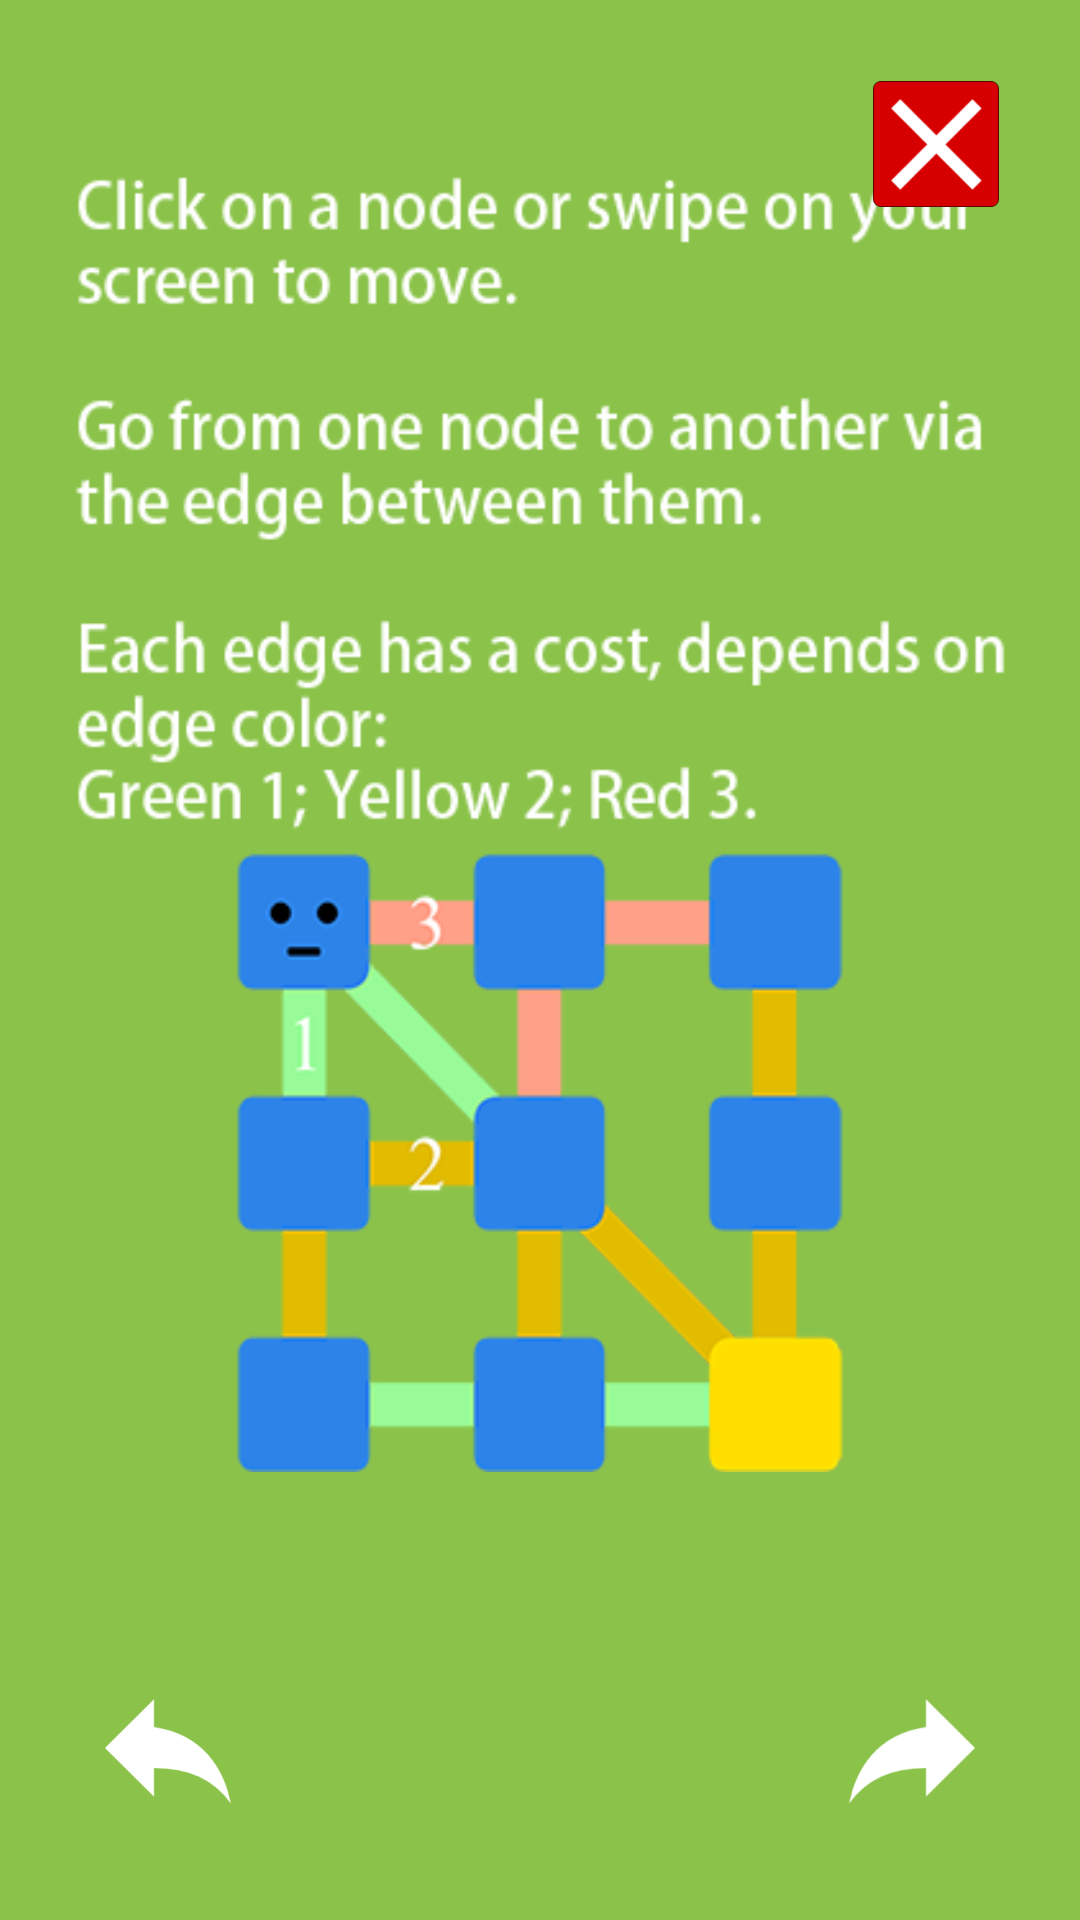

Point at icon controls on the screen. Image size 1080px x 1920px, points as [x,y].
back: [168,1751]
next: [912,1751]
